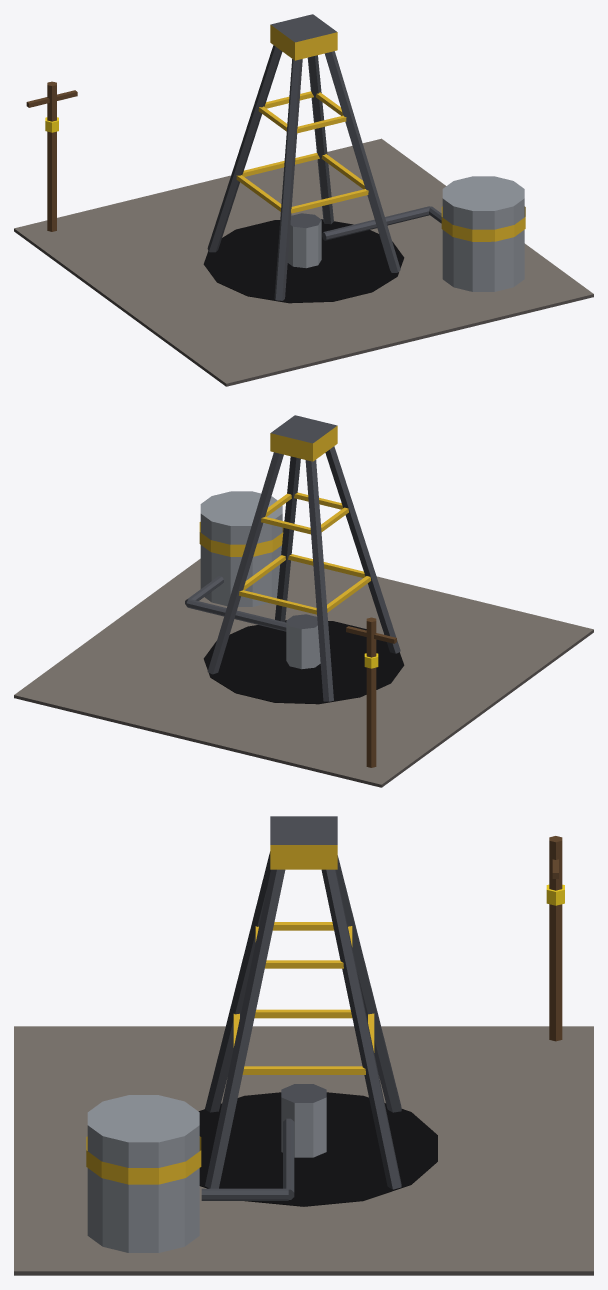
File: oil_well_2.glb
3 renders of one model, top to bottom at view 1: azimuth 30°, elevation 25°; view 2: azimuth 150°, elevation 25°; view 3: azimuth 270°, elevation 25°, orthographic. The views are drawn at different scales.
Visible parts, largest first — view 1: oil_well_2; view 2: oil_well_2; view 3: oil_well_2.
Boxes of the visible parts, x1,y1,x2,y2 form: oil_well_2: (14,14,593,386); oil_well_2: (14,415,593,787); oil_well_2: (14,816,593,1275).
Bounding box in the file's own units: 3.8 × 2.33 × 3.8.
